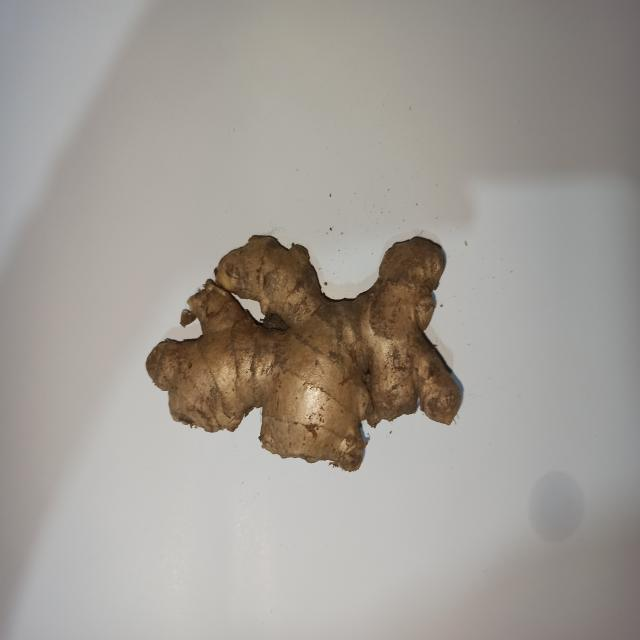ginger: (149, 233, 455, 468)
